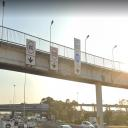speed_limit_100: (50, 46, 58, 62)
speed_limit_120: (74, 40, 80, 53)
speed_limit_80: (27, 40, 35, 56)
